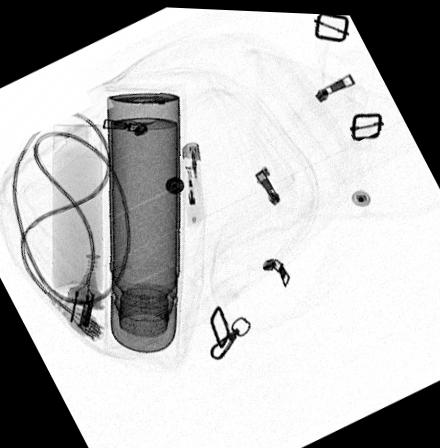Lighter: (180, 138, 204, 228)
